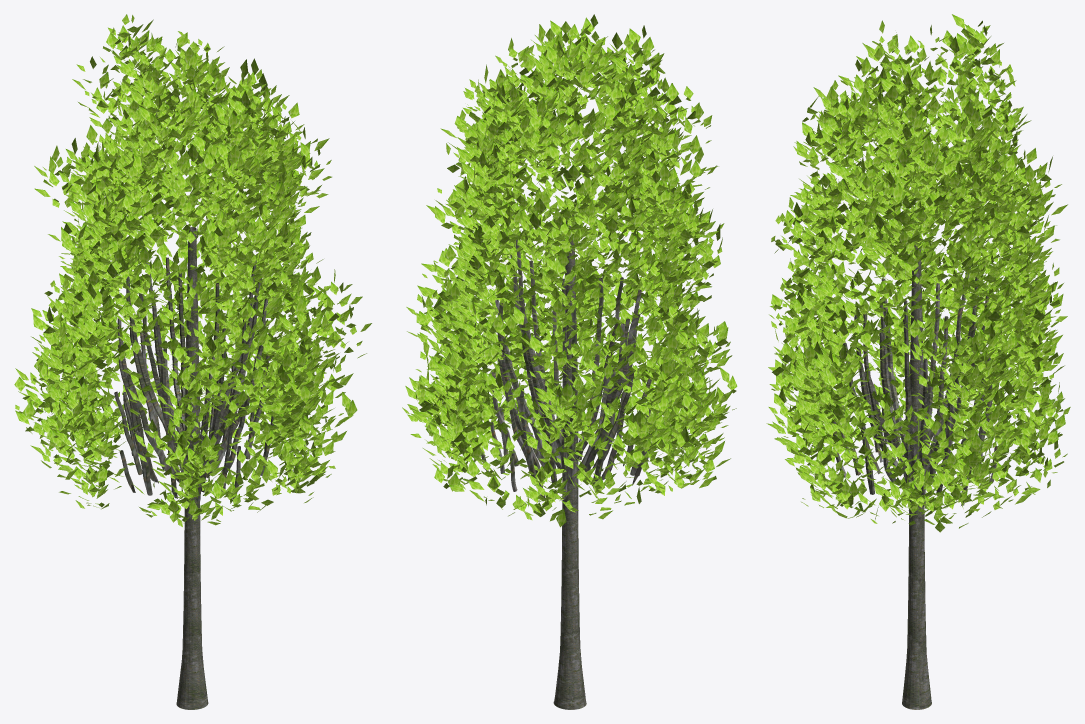
The model's file is tree_23.glb.
3 views of the same model, side by side, from view 1: azimuth 30°, elevation 25°; view 2: azimuth 150°, elevation 25°; view 3: azimuth 270°, elevation 25° (orthographic). The views are drawn at different scales.
Visible parts, largest first — view 1: MainBuilding; view 2: MainBuilding; view 3: MainBuilding.
Part boxes in pixels (box(x1,y1,x2,y2)): MainBuilding: box(14, 14, 371, 709); MainBuilding: box(402, 14, 737, 709); MainBuilding: box(766, 14, 1070, 709).
Bounding box in the file's own units: 2.8 × 6.14 × 2.54.
1 material, 1 textured.
